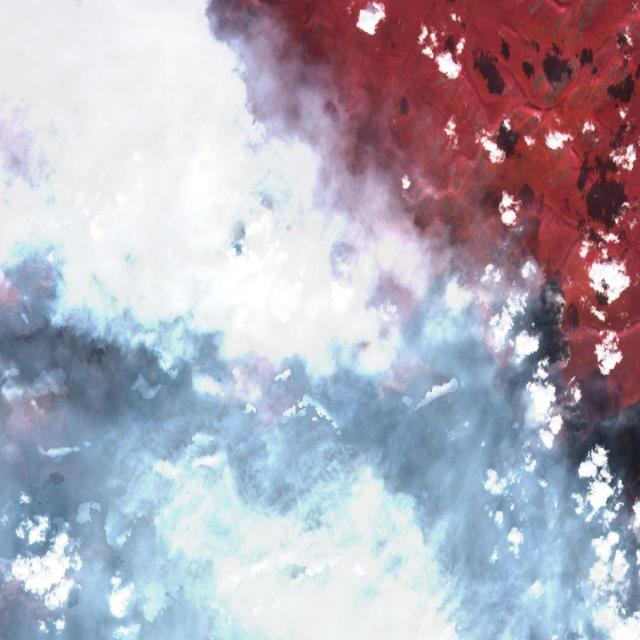fire: (0, 160, 640, 554)
